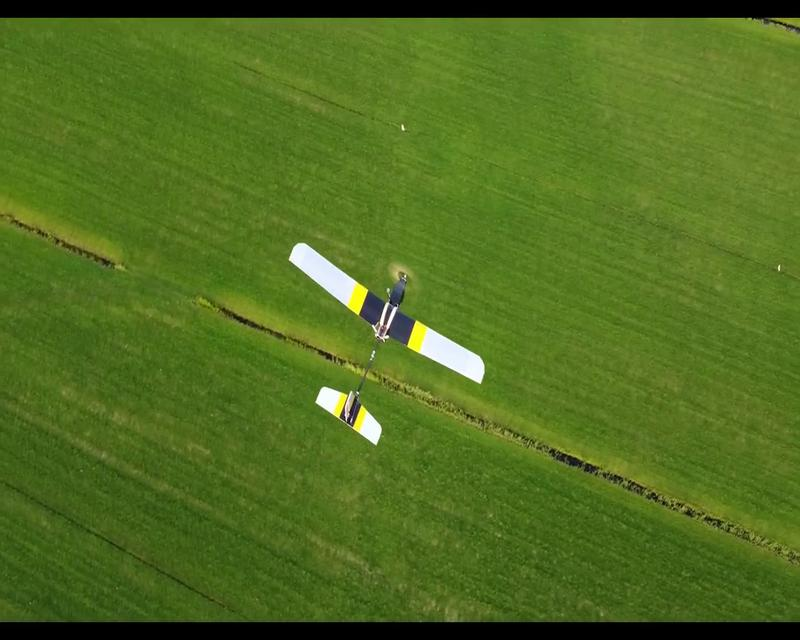UAV: (288, 243, 486, 446)
